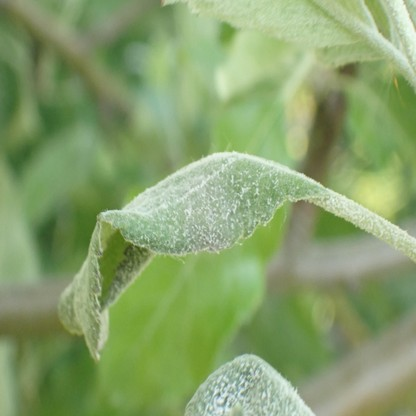powder: (58, 149, 319, 361), (160, 0, 384, 64), (183, 354, 314, 416)
